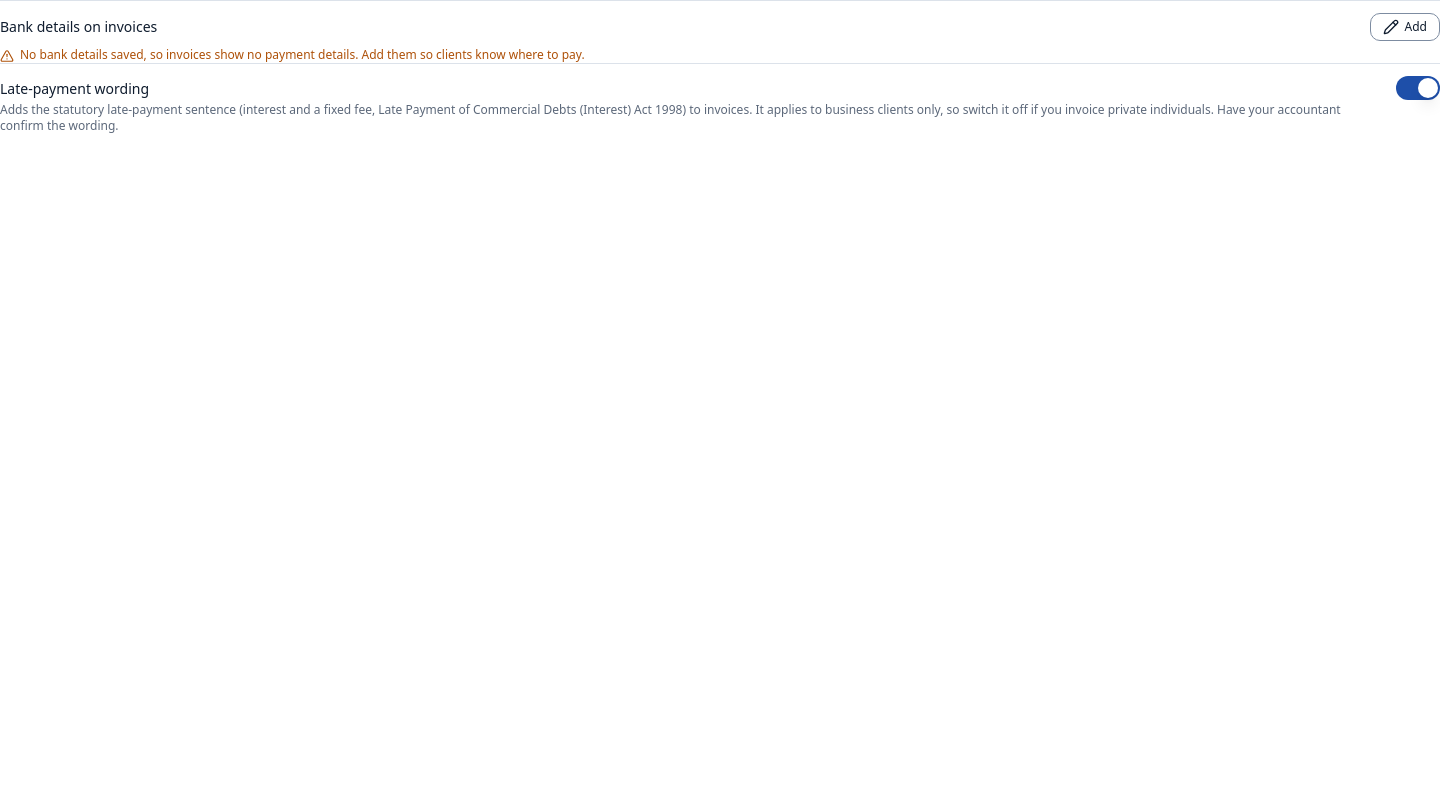
OrgPaymentSettings › saves normalised details, tells the page, and refreshes the invoice settings
Click the button "Add" at (1405, 27), box [1370,13,1439,41]
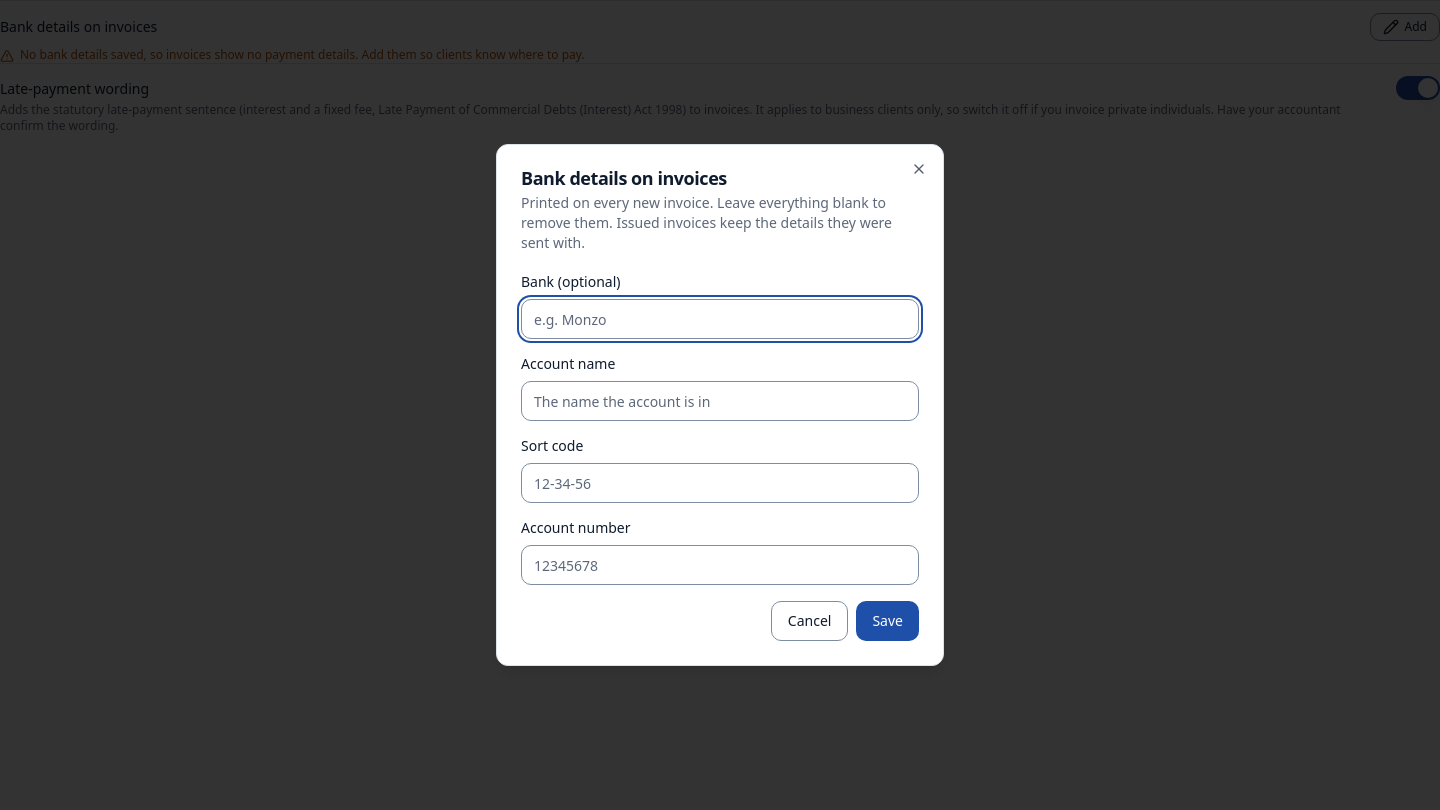
Type "Test Bank" into the field labelled "Bank (optional)" at (720, 319), box [521,299,919,339]
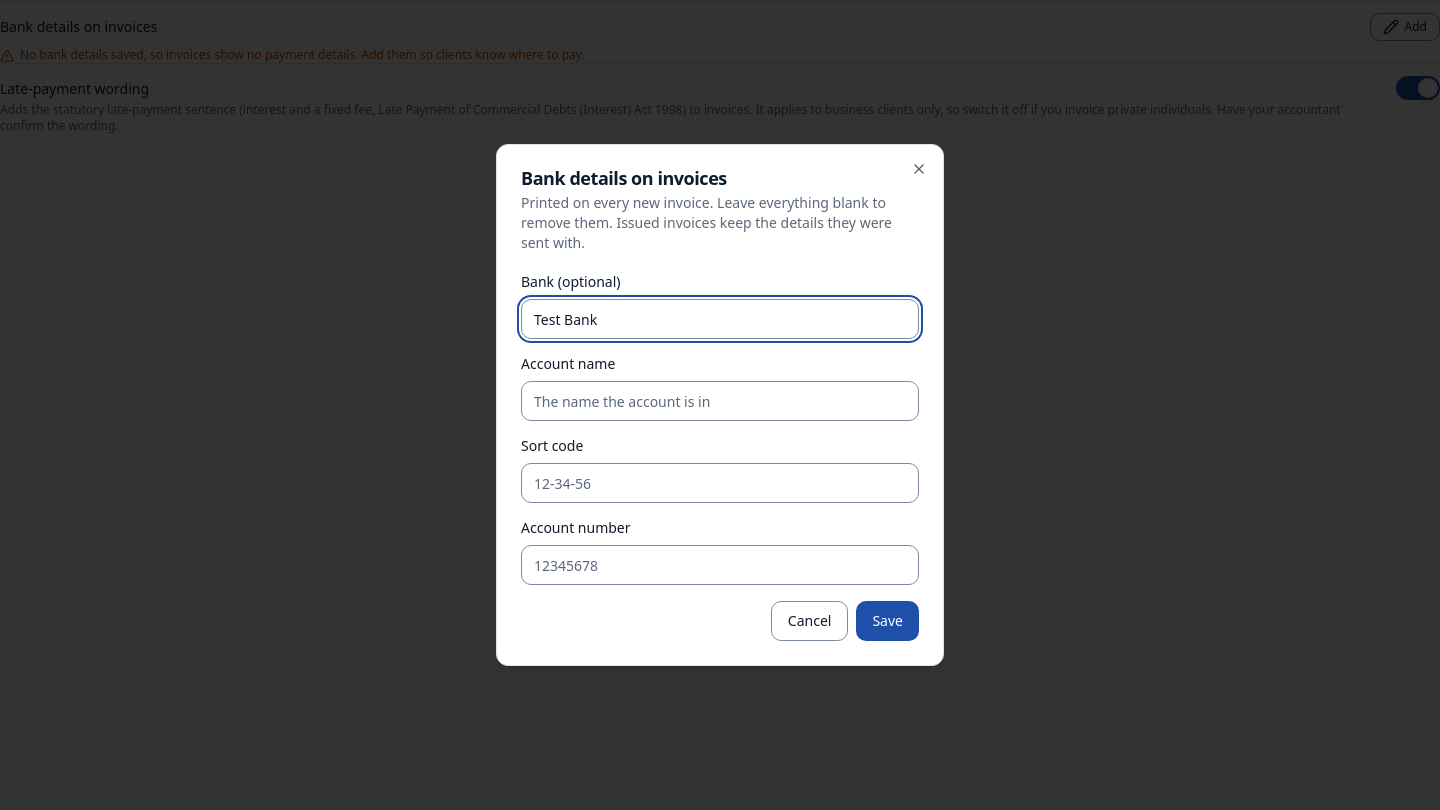
Type "Test Ltd" into the field labelled "Account name" at (720, 401), box [521,381,919,421]
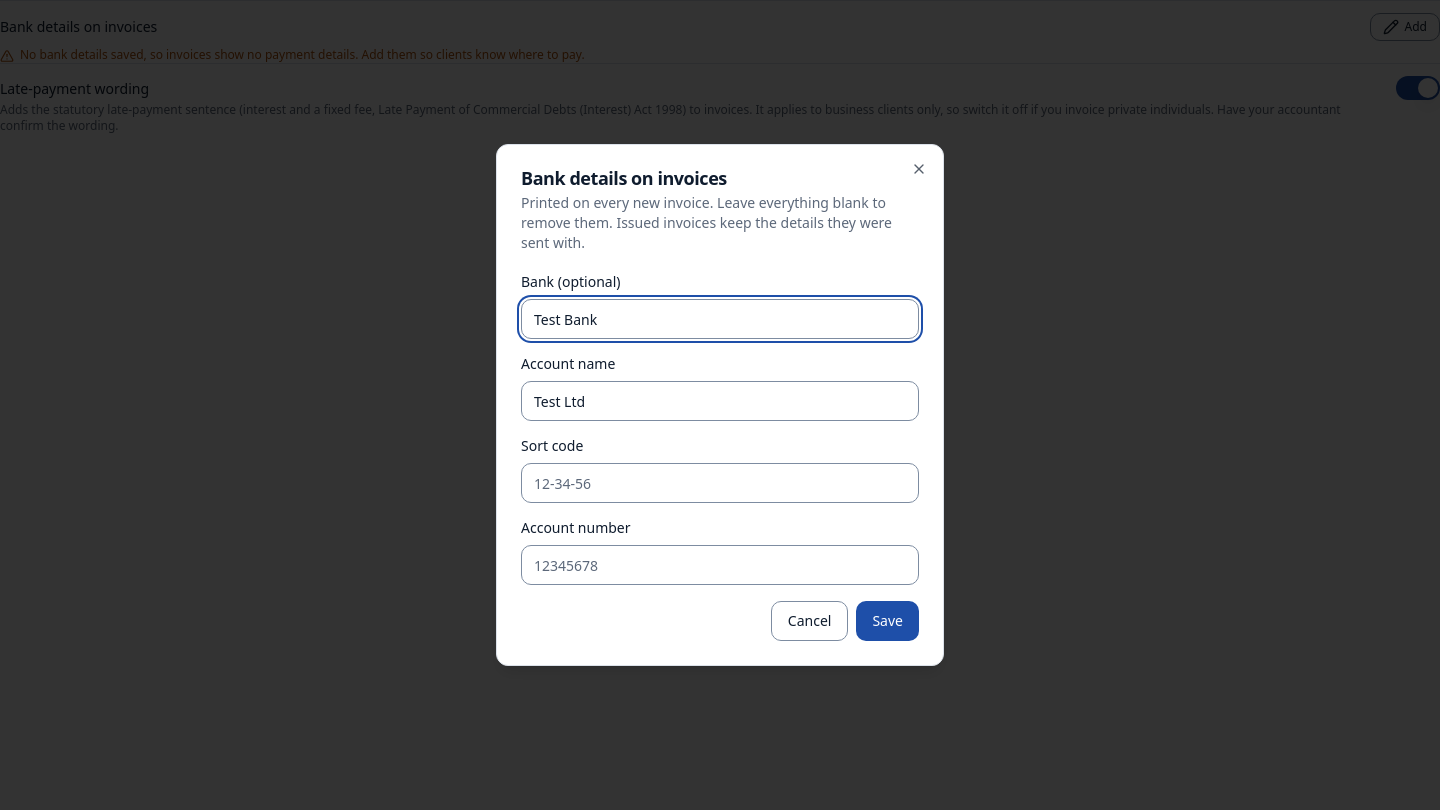
Type "123456" into the field labelled "Sort code" at (720, 483), box [521,463,919,503]
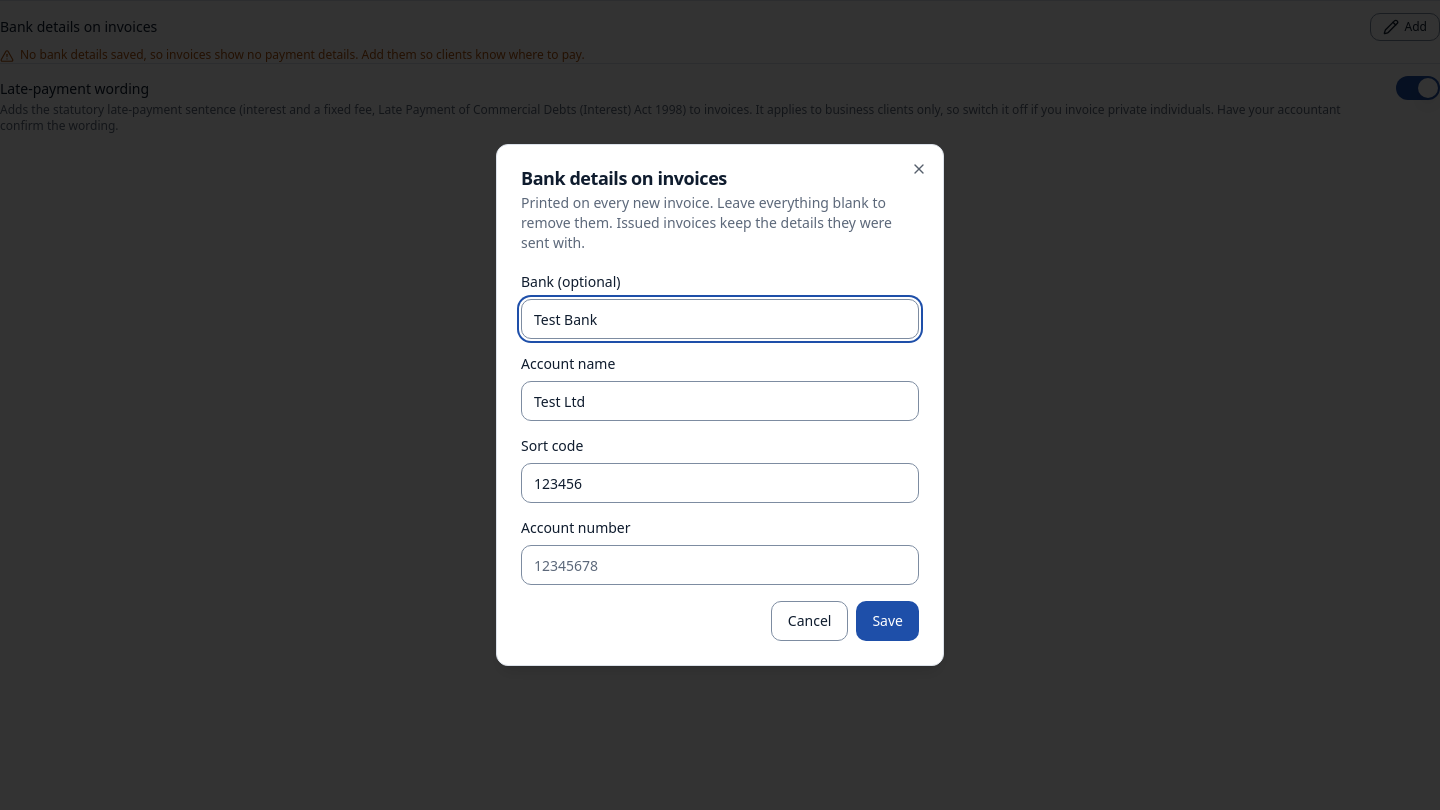
Type "1234 5678" into the field labelled "Account number" at (720, 565), box [521,545,919,585]
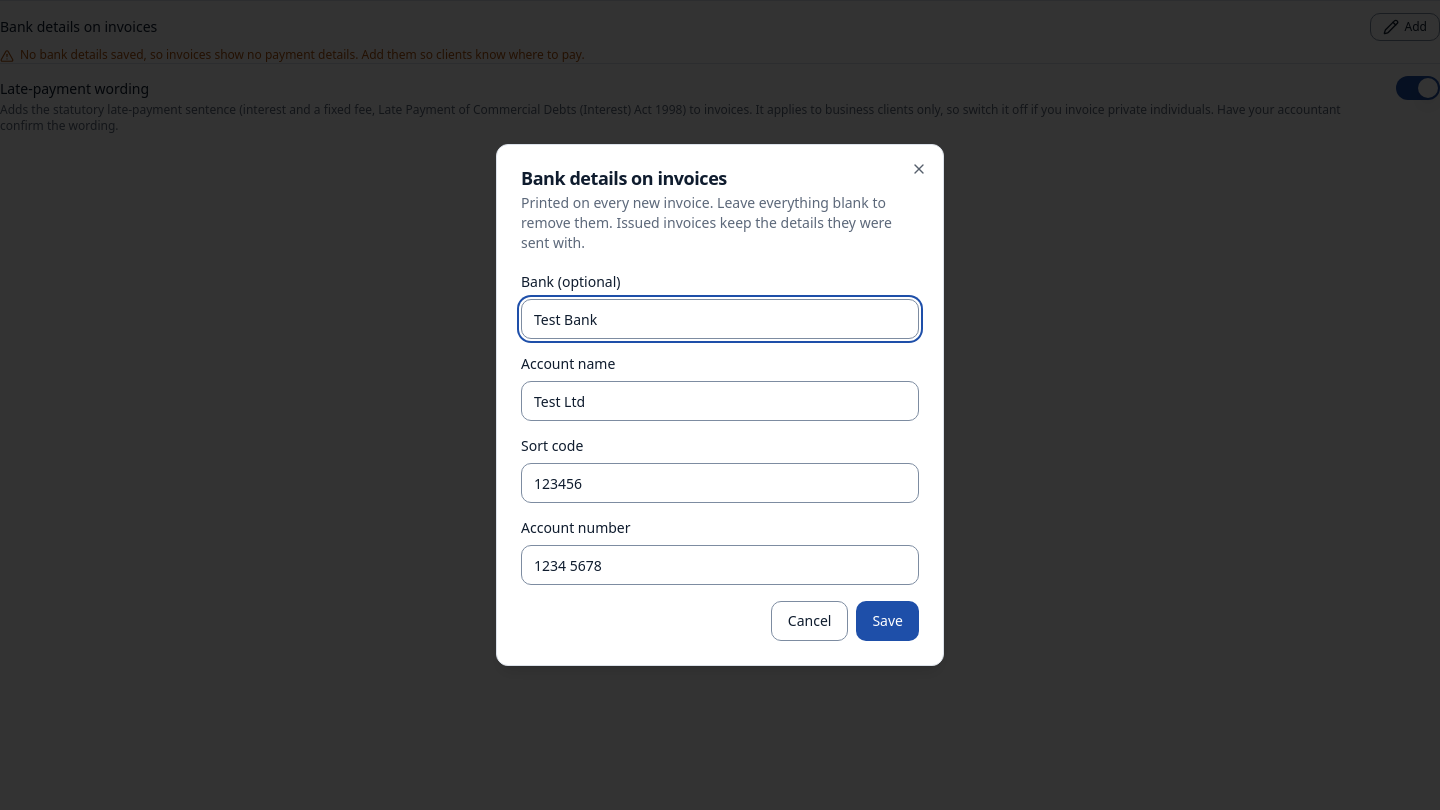
Click the button "Save" at (888, 621), box [856,601,919,641]
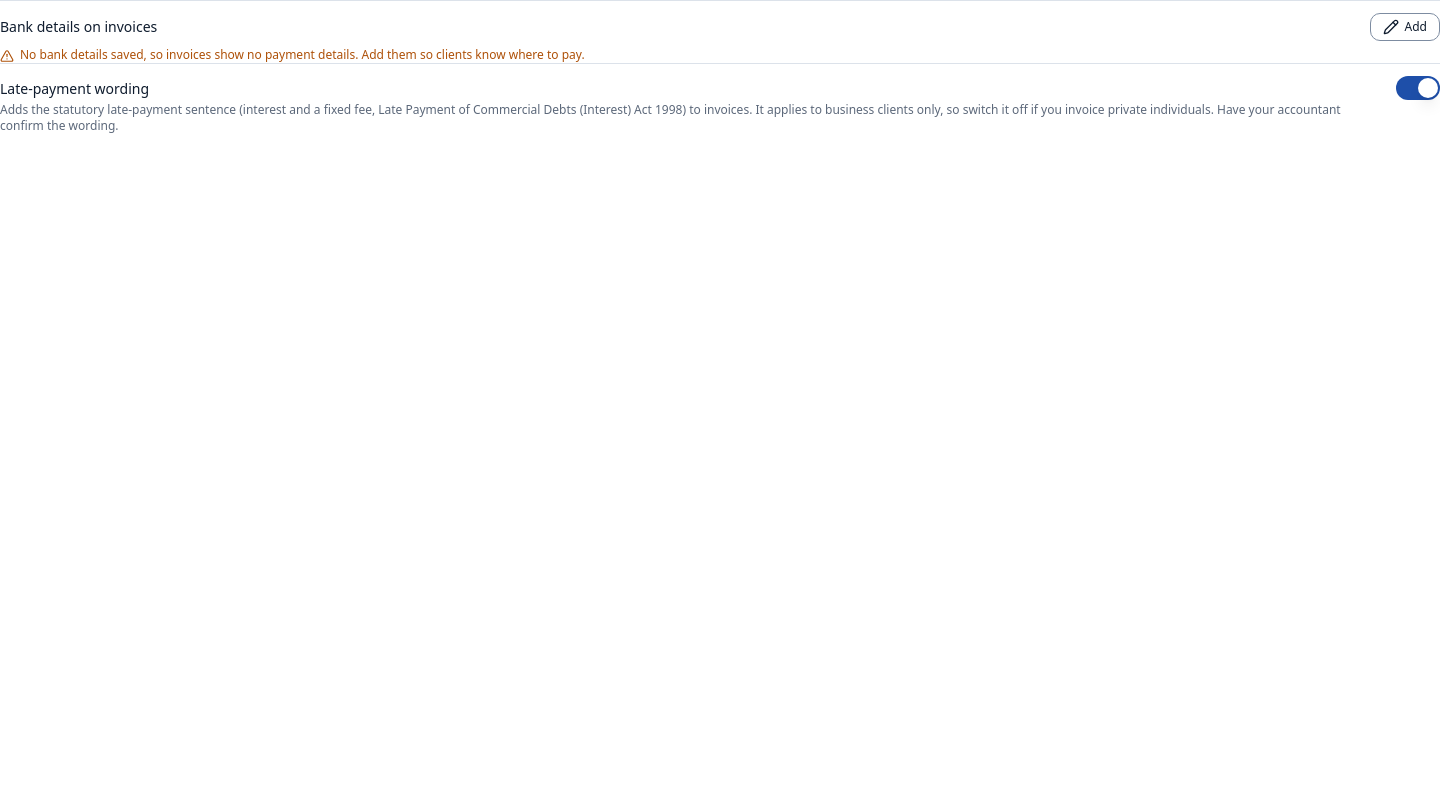
Expected: the dialog is gone
